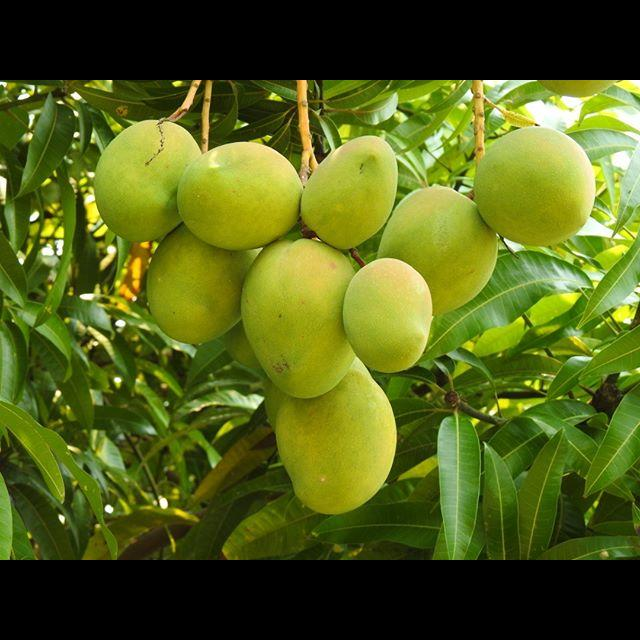xoai: (243, 240, 360, 397), (276, 386, 397, 516), (472, 125, 597, 247), (375, 188, 496, 313), (176, 142, 304, 252), (94, 120, 193, 243), (301, 138, 397, 249), (343, 258, 432, 375)
